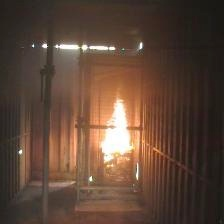fire: (99, 94, 131, 159)
